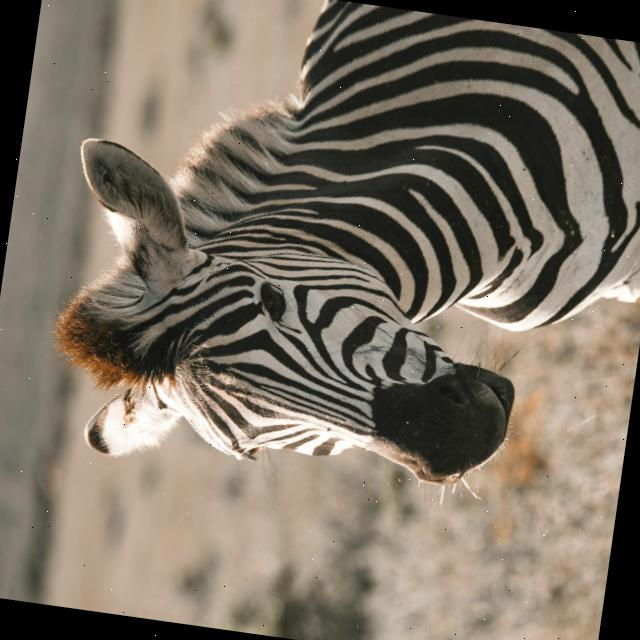Zebra: (35, 0, 640, 531)
